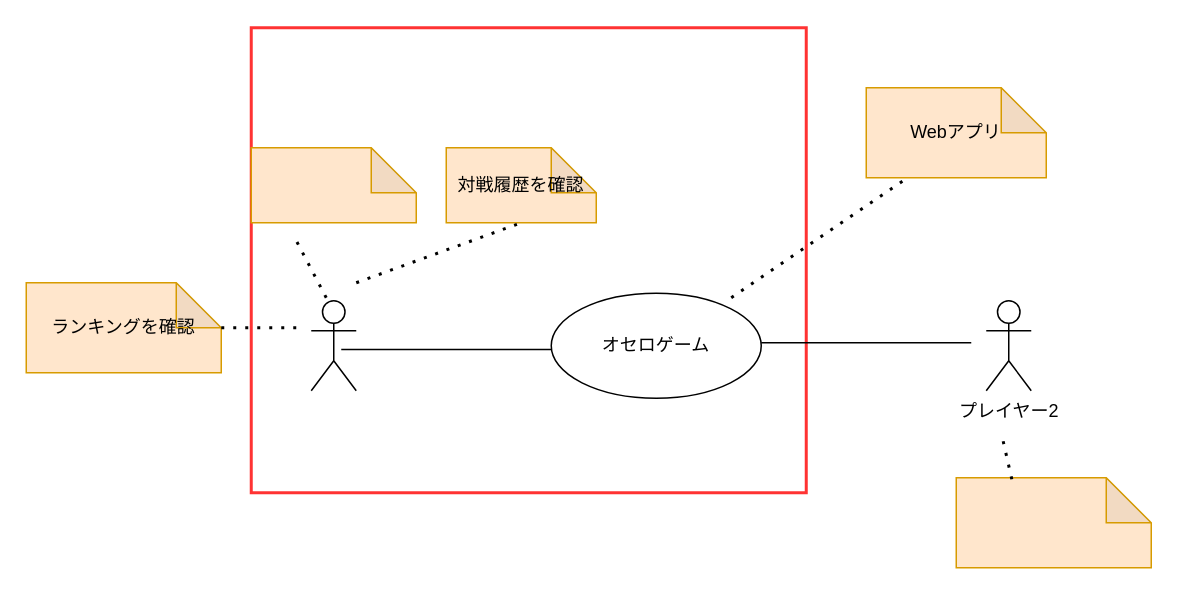
Image size: 1178x594. Some labels were removed from this diagram. The centre of each missing label's shape, as x and y in pixels:
"プレイヤー1" goes at pixel 333 345.
"一人で黒白交互に打つ" goes at pixel 333 184.
"他プレイヤーと対戦" goes at pixel 1053 522.
